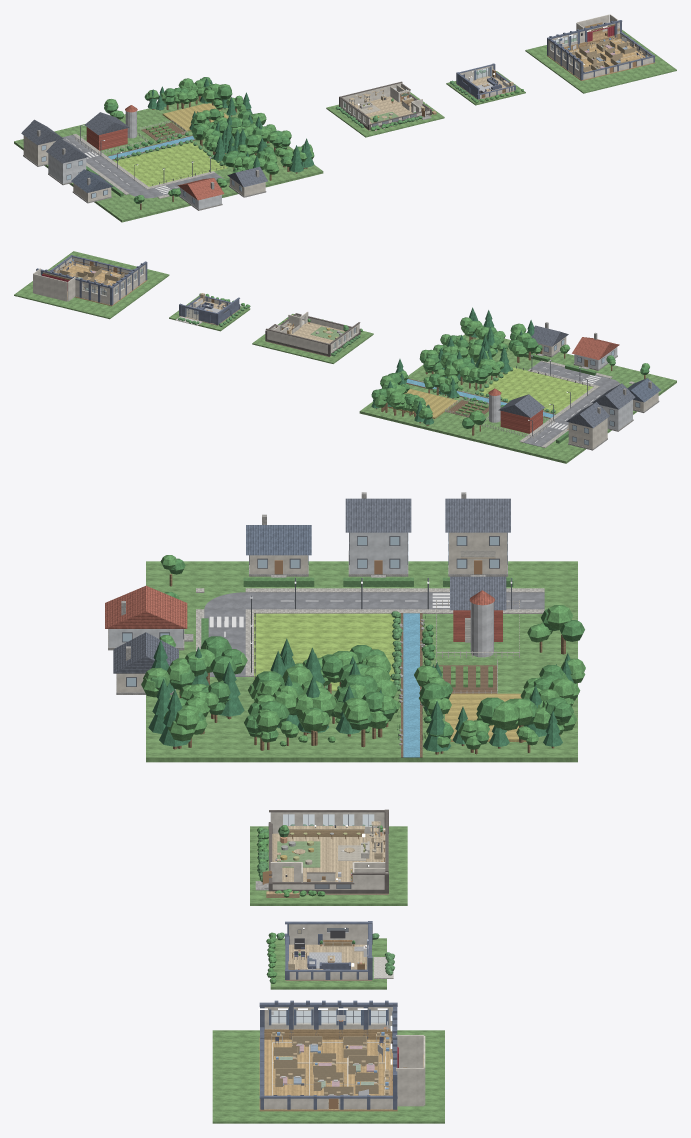
Rendered from all_scenes3.glb.
3 views of the same model, one above another, from view 1: azimuth 30°, elevation 25°; view 2: azimuth 150°, elevation 25°; view 3: azimuth 270°, elevation 25° (orthographic). The views are drawn at different scales.
Parts seen in each view (by area): view 1: lot, hall, cafe, living; view 2: lot, hall, cafe, living; view 3: lot, hall, cafe, living.
Boxes of the visible parts, box(x1,y1,x2,y2) form: lot: box(14, 77, 323, 222); hall: box(525, 14, 676, 93); cafe: box(326, 81, 444, 137); living: box(446, 63, 525, 105); lot: box(359, 307, 676, 463); hall: box(14, 251, 169, 319); cafe: box(252, 311, 373, 363); living: box(169, 293, 250, 331); lot: box(105, 492, 585, 762); hall: box(212, 1000, 444, 1123); cafe: box(250, 809, 407, 905); living: box(266, 921, 394, 989).
Size of the model in its own units: 162 by 9.4 by 57.93.
89 materials, 61 textured.
